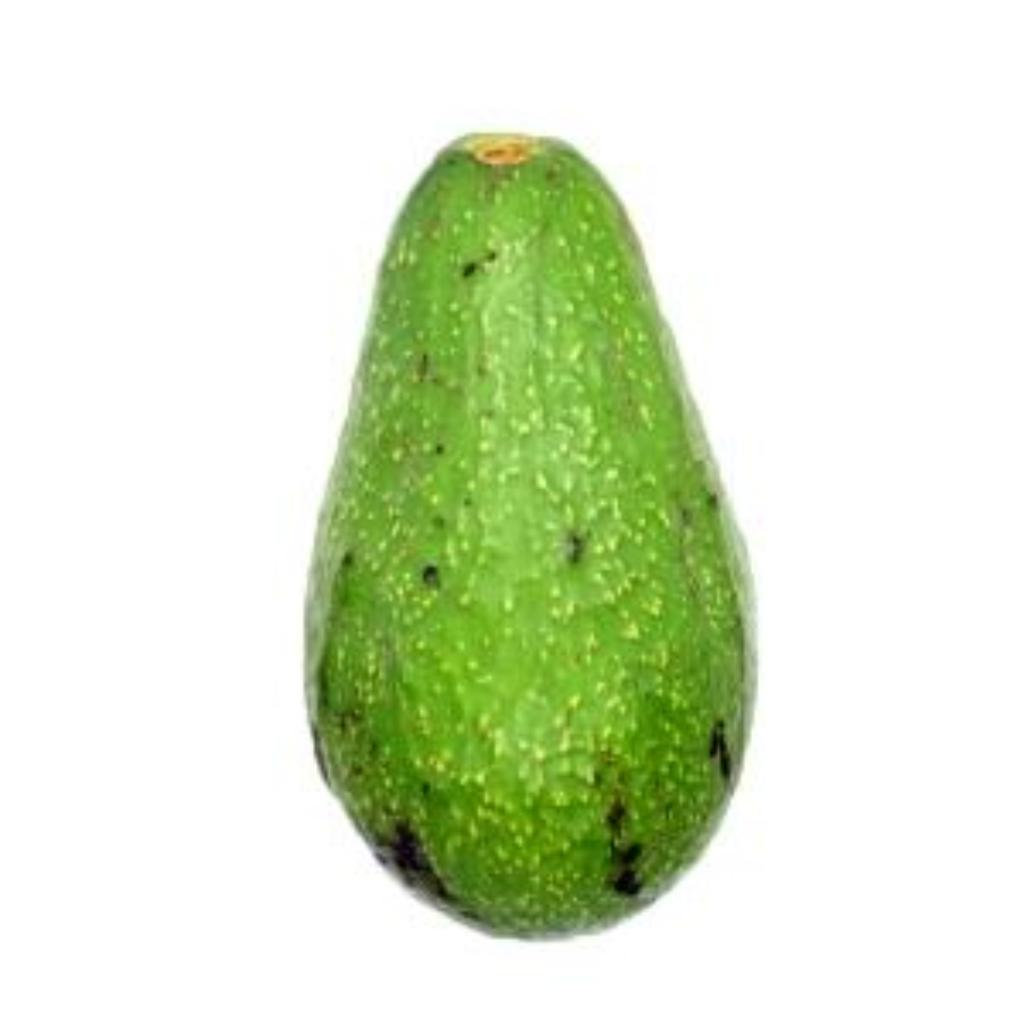cercospora_spot: (286, 78, 772, 946)
